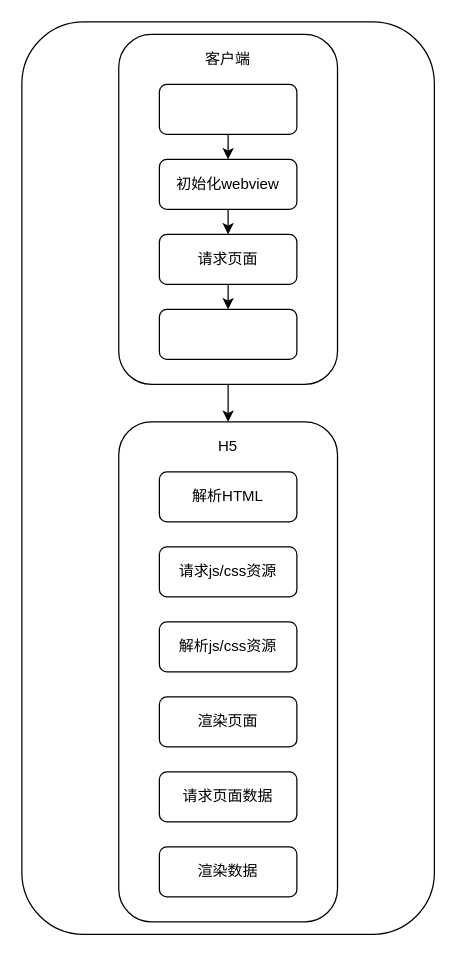
Some shapes in this 456 by 956 pixel diagram are drawn without their labels. Each missing label, with the centre of its shape:
"下载HTML" goes at point (227, 333).
"初始化原生页面" goes at point (227, 108).
